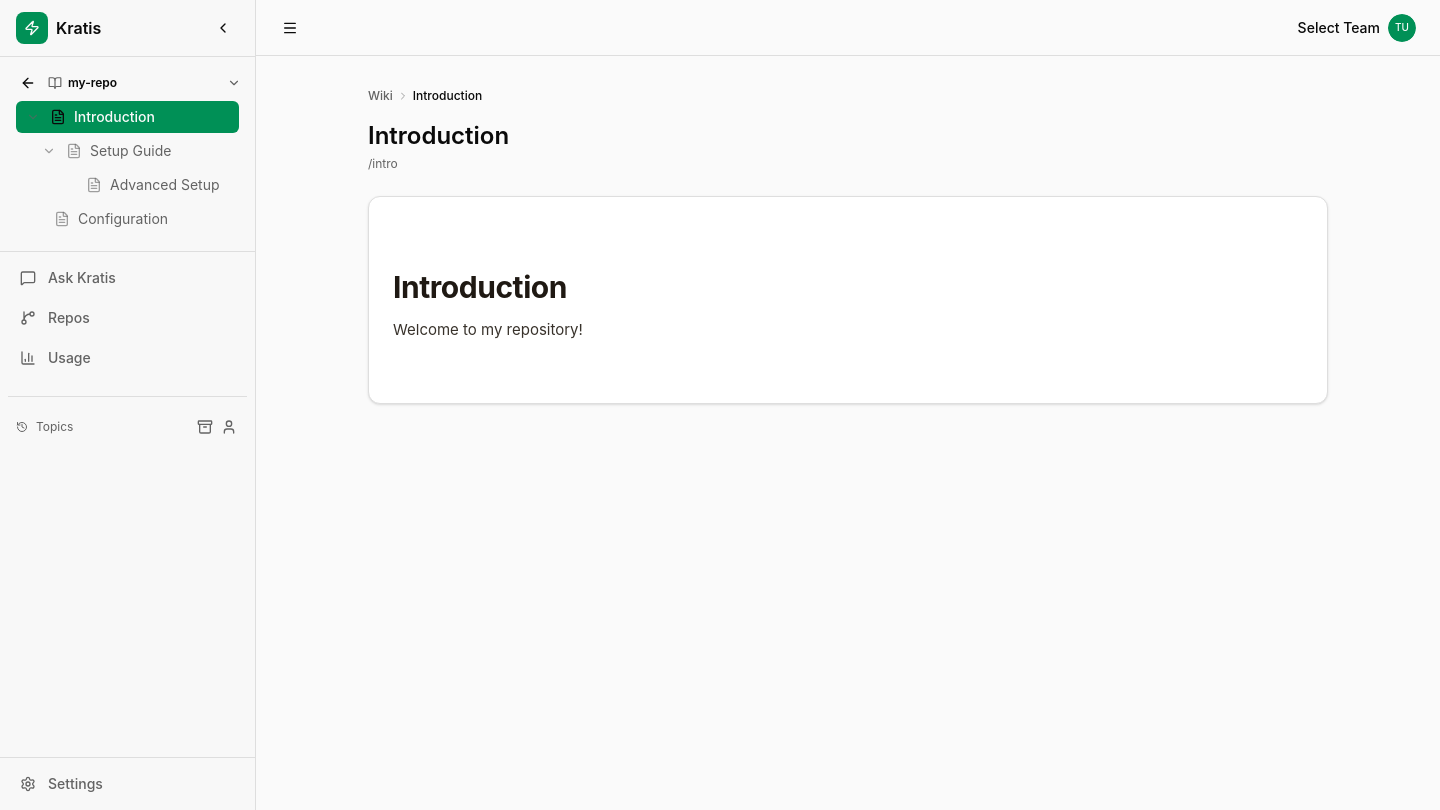
WikiView Hierarchical Navigation › allows clicking a link in the left-nav to navigate to another page
The width and height of the screenshot is (1440, 810).
Expected: the text "Welcome to my repository!" is shown, [393,320,583,339]
Note: Click Configuration
Click the text "Configuration". click: [123, 219]
box: [78,209,168,229]
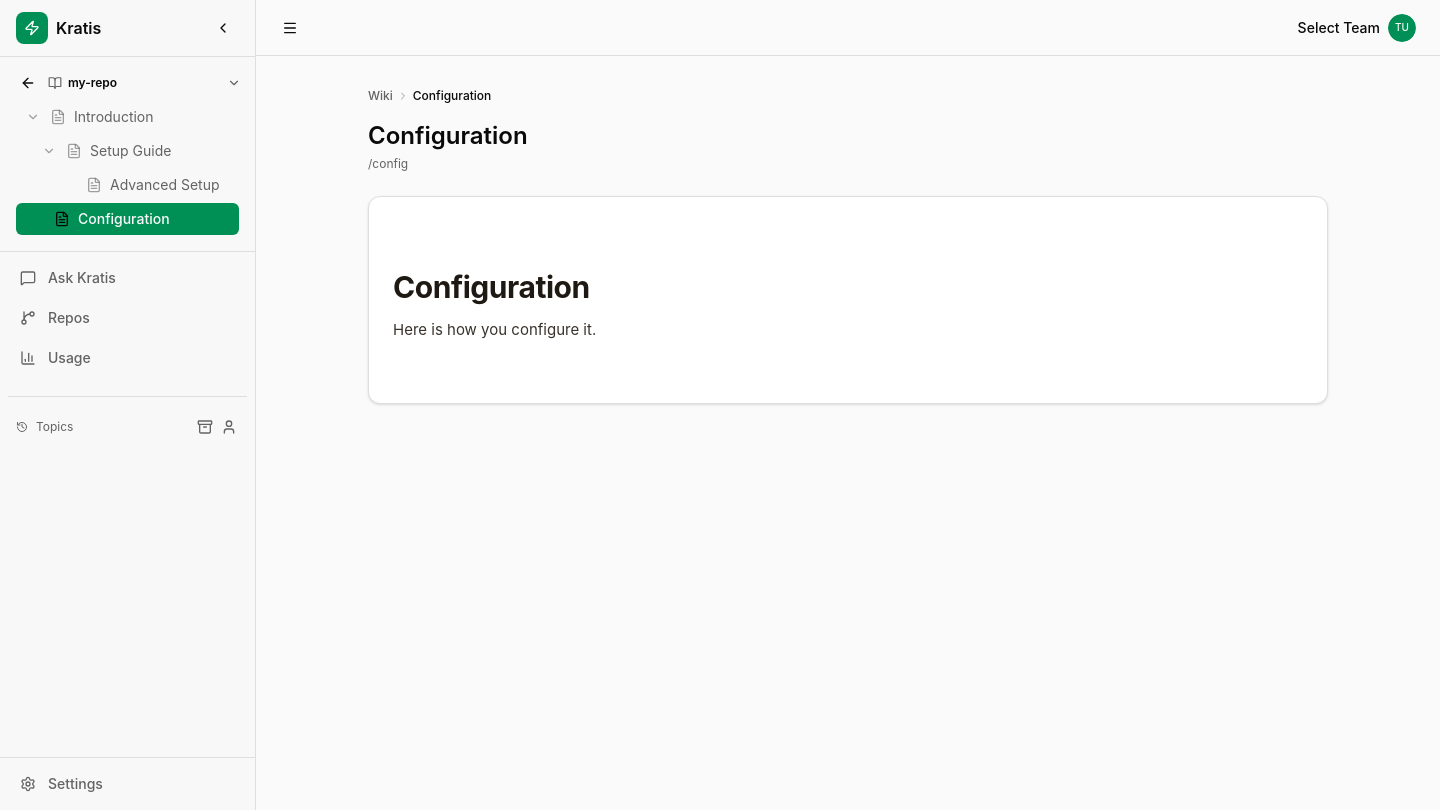
Now the text "Here is how you configure it." is shown, box [393,320,596,339]
